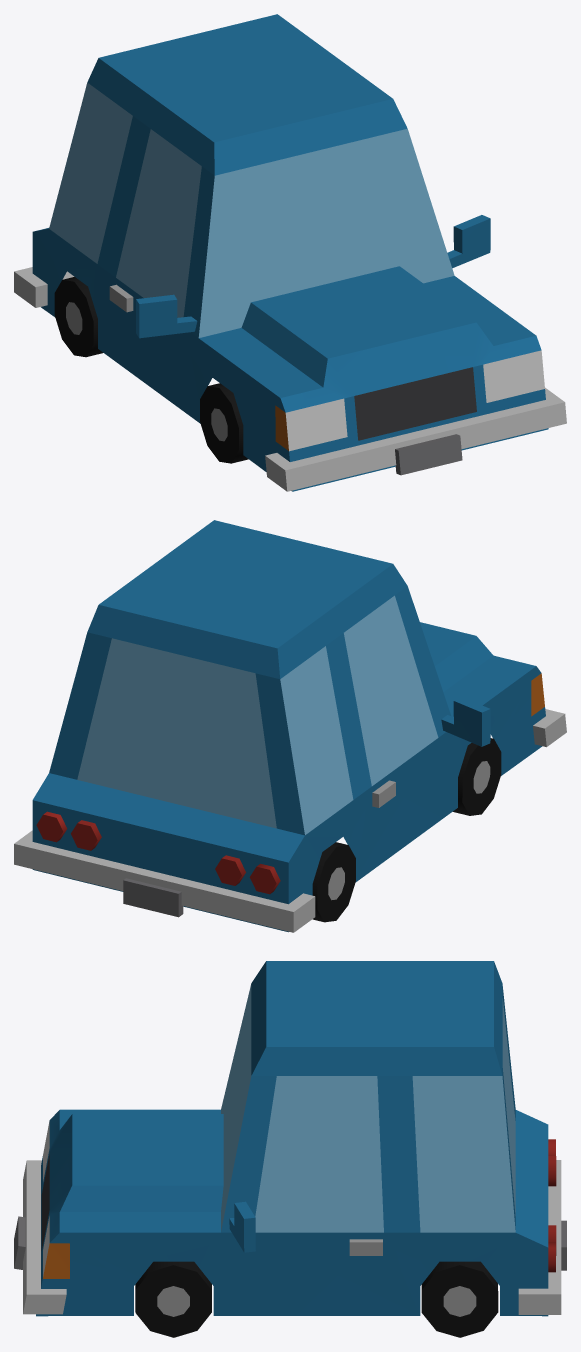
Rendered from Car_017.fbx.
The picture shows the model from 3 angles, top to bottom: view 1: azimuth 30°, elevation 25°; view 2: azimuth 150°, elevation 25°; view 3: azimuth 270°, elevation 25°; orthographic projection.
Visible parts, largest first — view 1: Car_017; view 2: Car_017; view 3: Car_017.
Boxes of the visible parts, <box> form: Car_017: <box>14,14,566,491</box>; Car_017: <box>14,520,566,932</box>; Car_017: <box>14,961,566,1337</box>.
Bounding box in the file's own units: 159 × 119 × 220.
